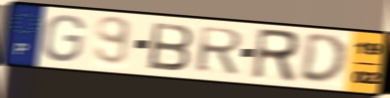9: (94, 14, 134, 71)
B: (146, 20, 196, 73)
D: (297, 33, 350, 87)
G: (40, 13, 87, 64)
R: (248, 27, 302, 85), (193, 25, 246, 76)
